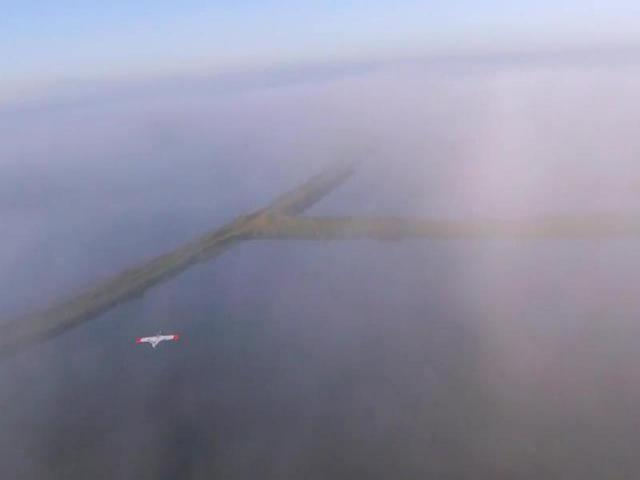hedef: (136, 327, 184, 354)
